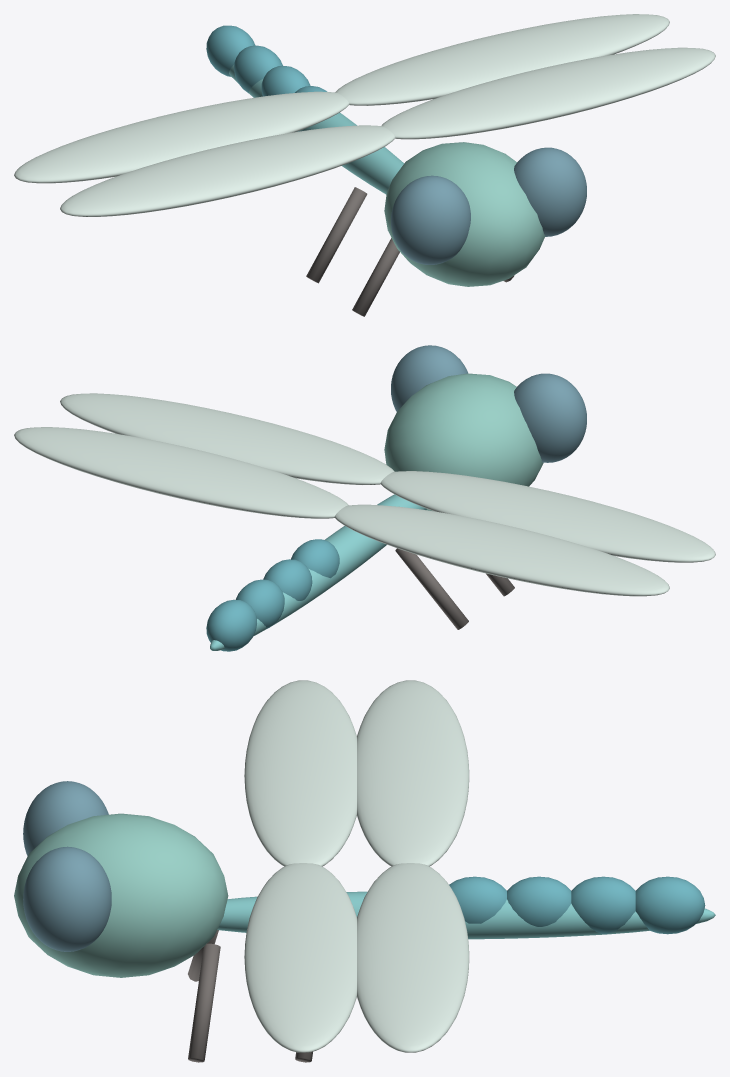
File: dragonfly-emperor-dragonfly.glb
3 views of the same model, one above another, from view 1: azimuth 30°, elevation 25°; view 2: azimuth 150°, elevation 25°; view 3: azimuth 270°, elevation 25° (orthographic). The views are drawn at different scales.
Parts seen in each view (by area): view 1: material_b3d1c4, material_4b9687, material_2e5669, material_267082, material_2d2927, material_409b9c; view 2: material_b3d1c4, material_4b9687, material_2e5669, material_267082, material_409b9c, material_2d2927; view 3: material_b3d1c4, material_4b9687, material_2e5669, material_267082, material_409b9c, material_2d2927.
Boxes of the visible parts, bbox=[...] form: material_b3d1c4: bbox=[14, 14, 715, 216]; material_4b9687: bbox=[384, 142, 545, 286]; material_2e5669: bbox=[391, 147, 586, 264]; material_267082: bbox=[206, 25, 327, 96]; material_2d2927: bbox=[306, 187, 514, 316]; material_409b9c: bbox=[229, 65, 403, 194]; material_b3d1c4: bbox=[14, 393, 715, 596]; material_4b9687: bbox=[384, 373, 543, 510]; material_2e5669: bbox=[391, 345, 586, 462]; material_267082: bbox=[206, 539, 339, 651]; material_409b9c: bbox=[210, 494, 426, 650]; material_2d2927: bbox=[395, 548, 514, 629]; material_b3d1c4: bbox=[244, 680, 469, 1052]; material_4b9687: bbox=[14, 813, 228, 977]; material_2e5669: bbox=[23, 781, 111, 951]; material_267082: bbox=[449, 876, 705, 934]; material_409b9c: bbox=[217, 891, 715, 939]; material_2d2927: bbox=[188, 930, 312, 1062].
Bounding box in the file's own units: 1.64 × 0.4203 × 1.31.
